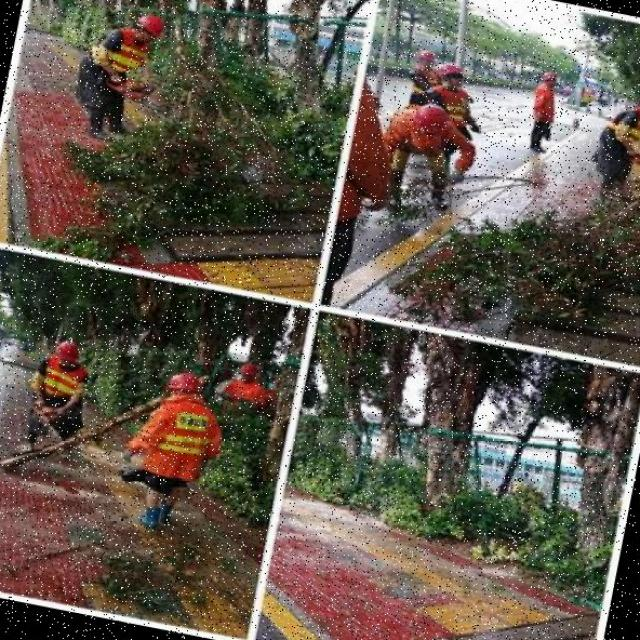fallen_object: (0, 368, 161, 497)
